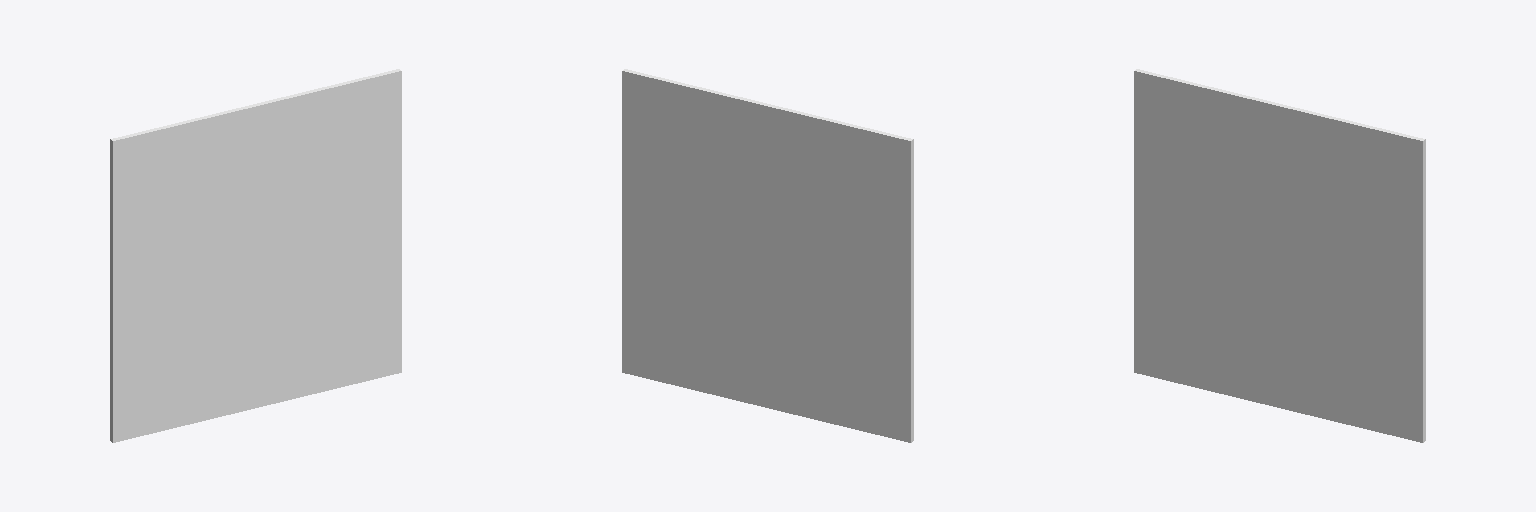
File: cuamo.obj
The picture shows the model from 3 angles: view 1: azimuth 30°, elevation 25°; view 2: azimuth 150°, elevation 25°; view 3: azimuth 330°, elevation 25°; orthographic projection.
Parts seen in each view (by area): view 1: obj1, obj2; view 2: obj1, obj2; view 3: obj2, obj1.
Part boxes in pixels (x1,y1,x2,y2): obj1: (110,104,256,442); obj2: (255,69,401,407); obj1: (767,104,913,442); obj2: (622,69,768,407); obj2: (1279,104,1425,442); obj1: (1134,69,1280,407).
Bounding box in the file's own units: 6 × 6 × 0.1.